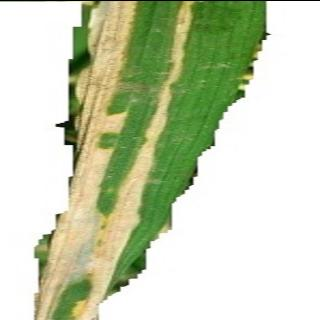Hawar-Daun: (85, 2, 136, 108), (84, 196, 120, 297), (74, 109, 104, 209), (168, 0, 196, 86), (143, 84, 167, 184), (40, 233, 64, 320), (59, 212, 86, 288), (120, 165, 140, 248), (73, 298, 101, 320)
